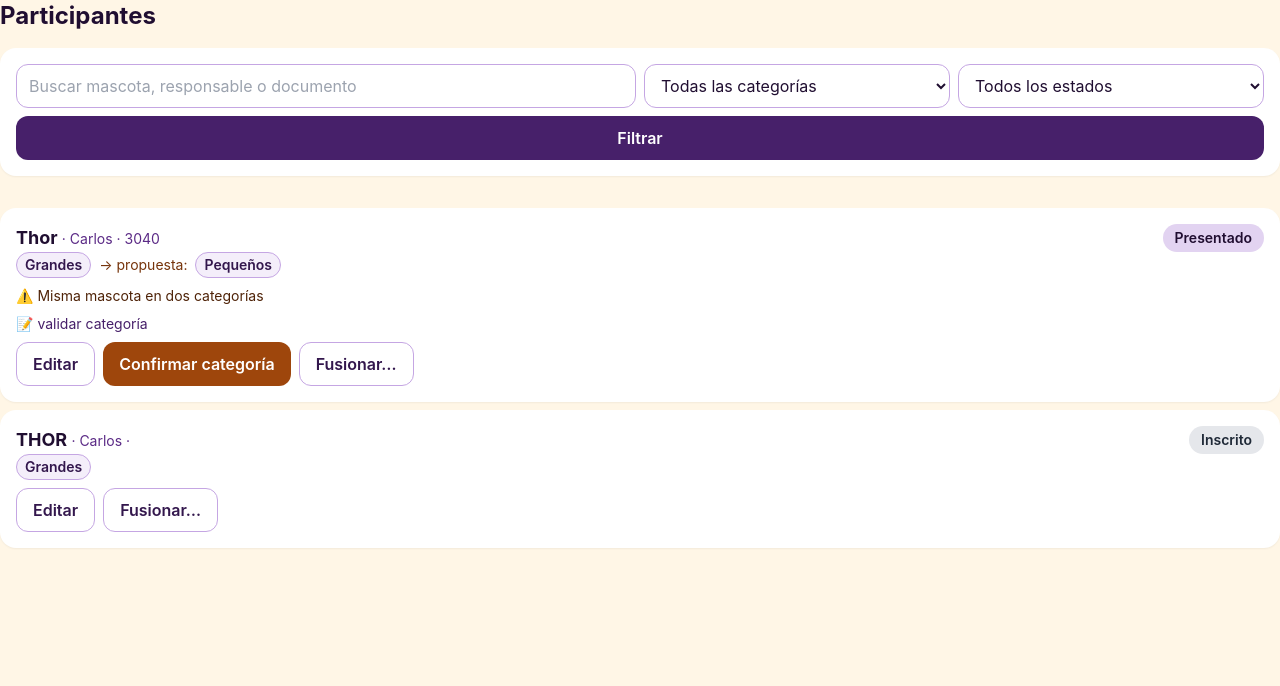
Test: choque de jurado en la fusión se muestra
Click the button with test id "fusionar-t1". click: [356, 364]
box: 299,342 -> 414,386
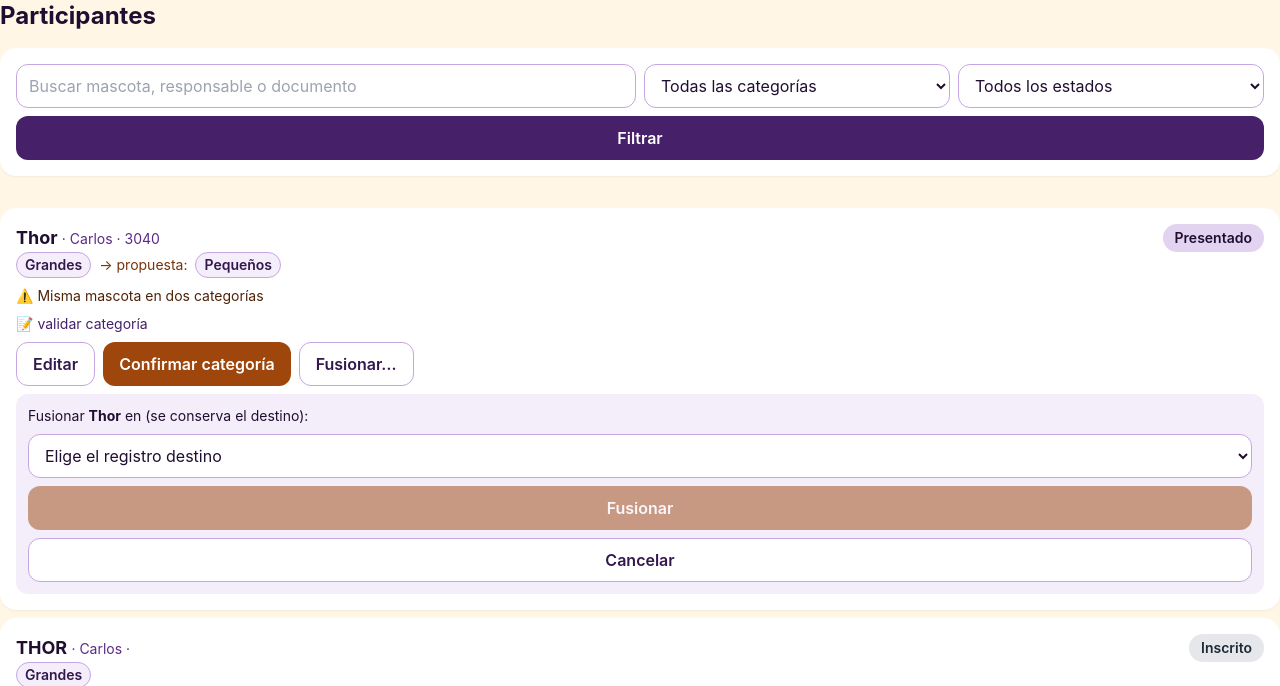
Select "THOR · Carlos · sin documento · Grandes" in the dropdown with test id "destino-fusion". click: [640, 456]
box: 28,434 -> 1252,478
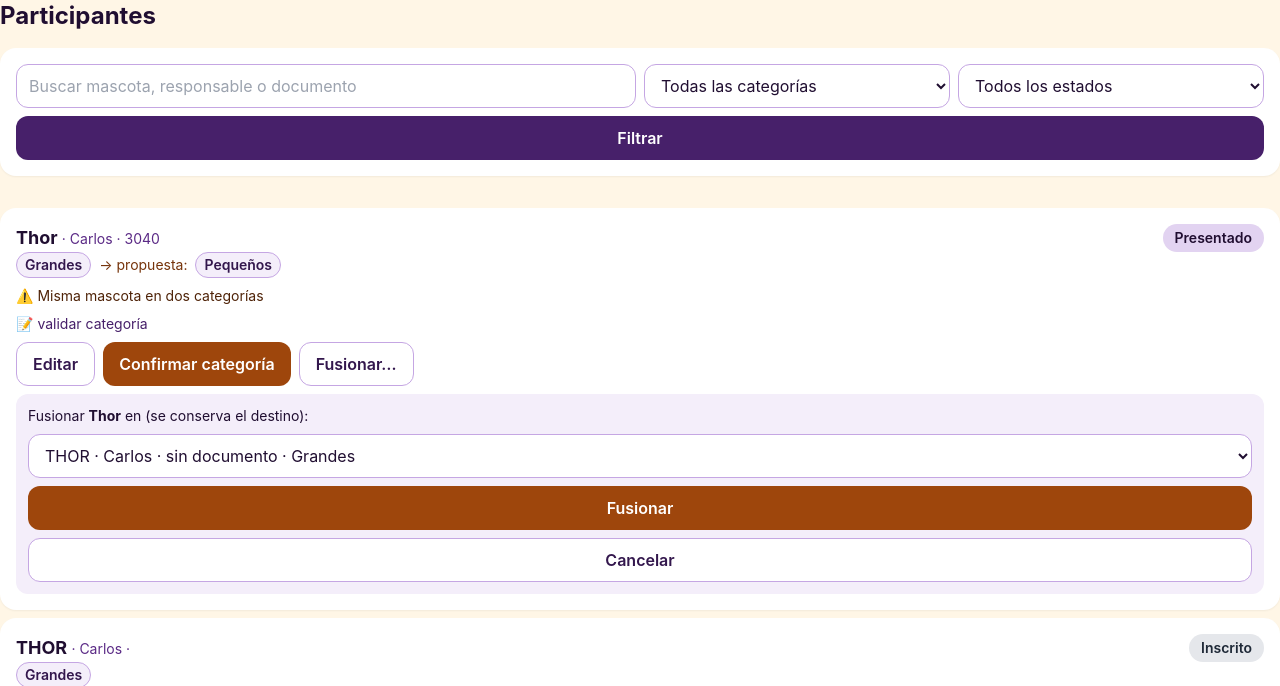
Click the button with test id "confirmar-fusion". click: [640, 508]
box: 28,486 -> 1252,530
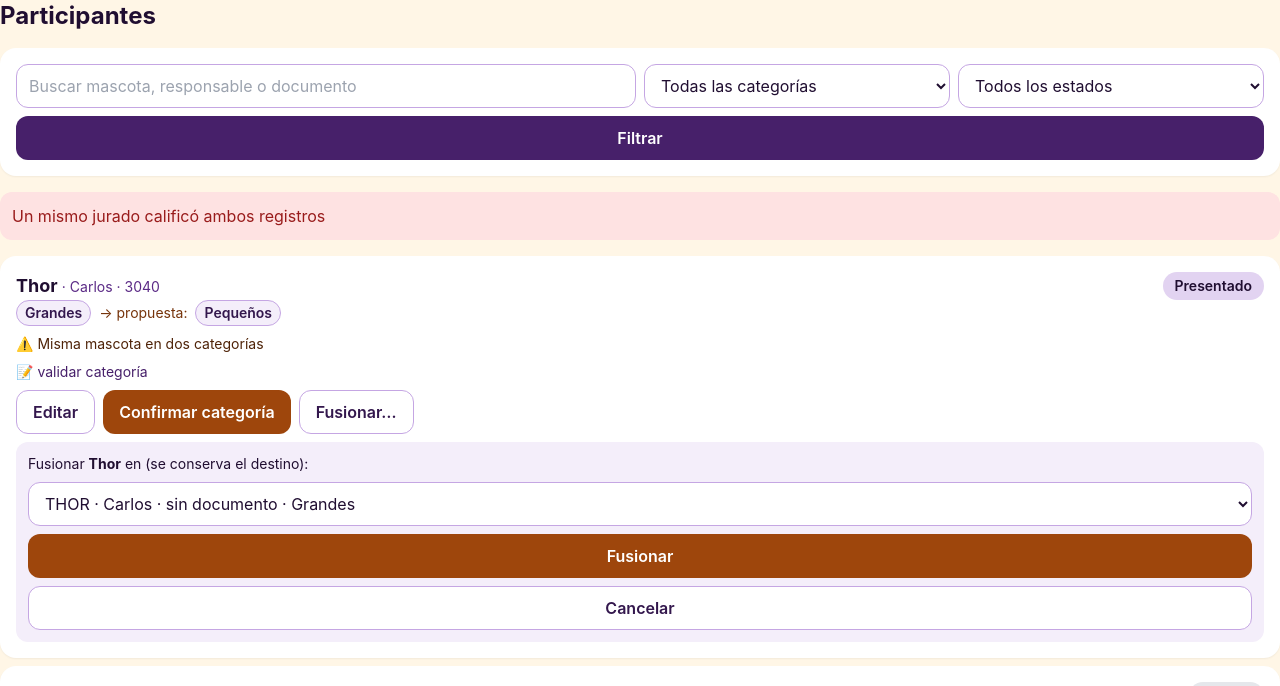
Expected: the text "Un mismo jurado calificó ambos registros" is shown, 0,192 -> 1279,240
